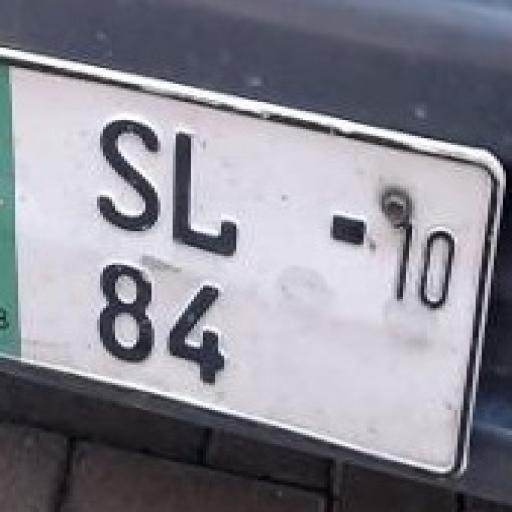4: (160, 276, 246, 390)
8: (93, 258, 157, 368)
L: (171, 132, 260, 254)
S: (78, 114, 164, 252)
